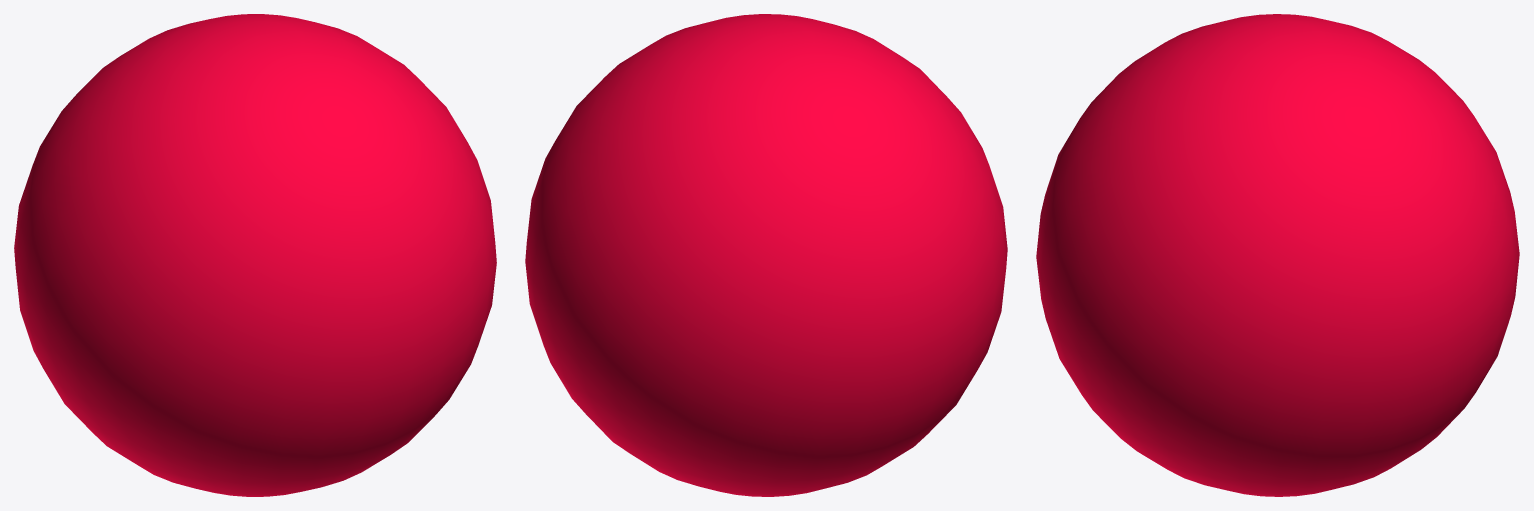
The model's file is ball_01.fbx.
3 renders of one model, left to right at view 1: azimuth 30°, elevation 25°; view 2: azimuth 150°, elevation 25°; view 3: azimuth 270°, elevation 25°, orthographic.
Parts seen in each view (by area): view 1: Goo; view 2: Goo; view 3: Goo.
Part boxes in pixels (left/top/right/bottom): Goo: left=14, top=14, right=496, bottom=496; Goo: left=525, top=14, right=1007, bottom=496; Goo: left=1036, top=14, right=1519, bottom=496.
Bounding box in the file's own units: 98.42 × 98.42 × 98.42.
